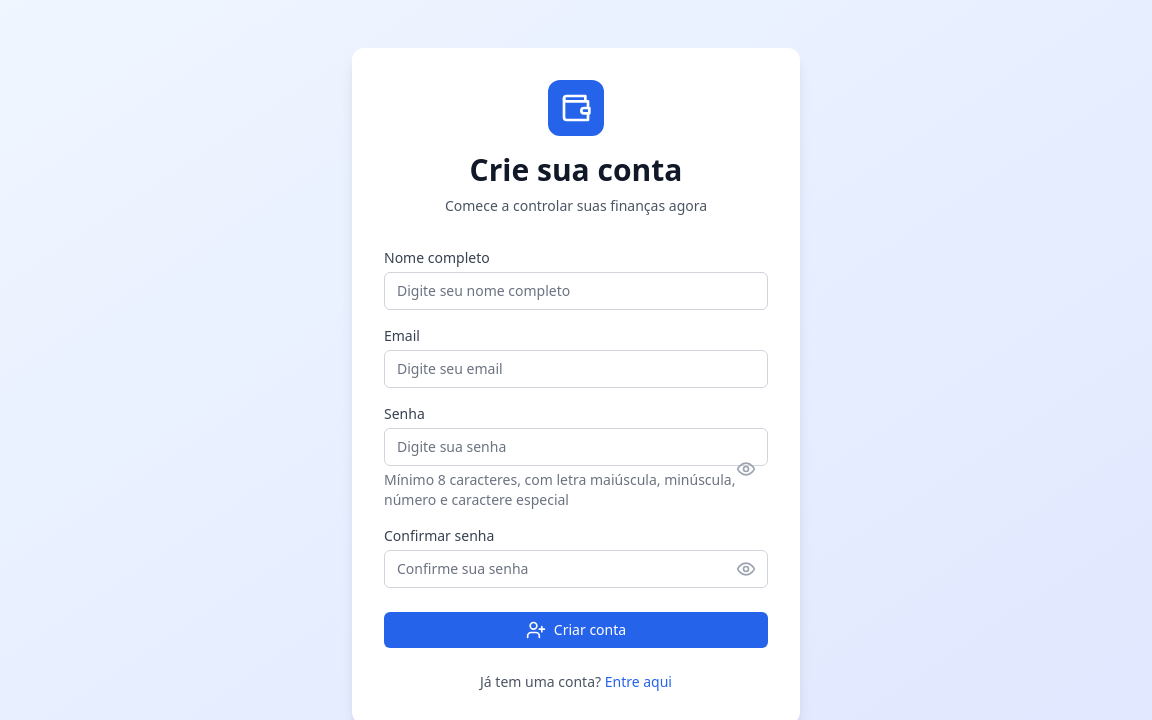
Test: RegisterPage › validates name minimum length
Type "Jo" into the field labelled "Nome completo" at x=576, y=291, box [384, 272, 768, 310]
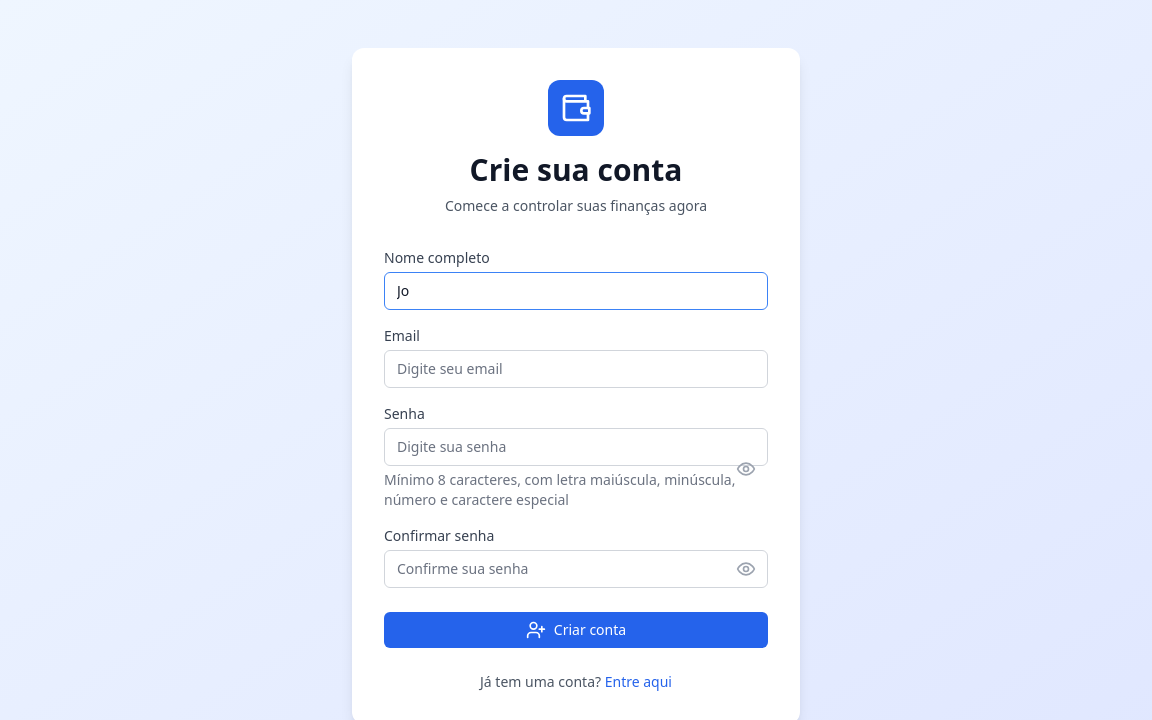
Type "test@example.com" into the field labelled "Email" at x=576, y=369, box [384, 350, 768, 388]
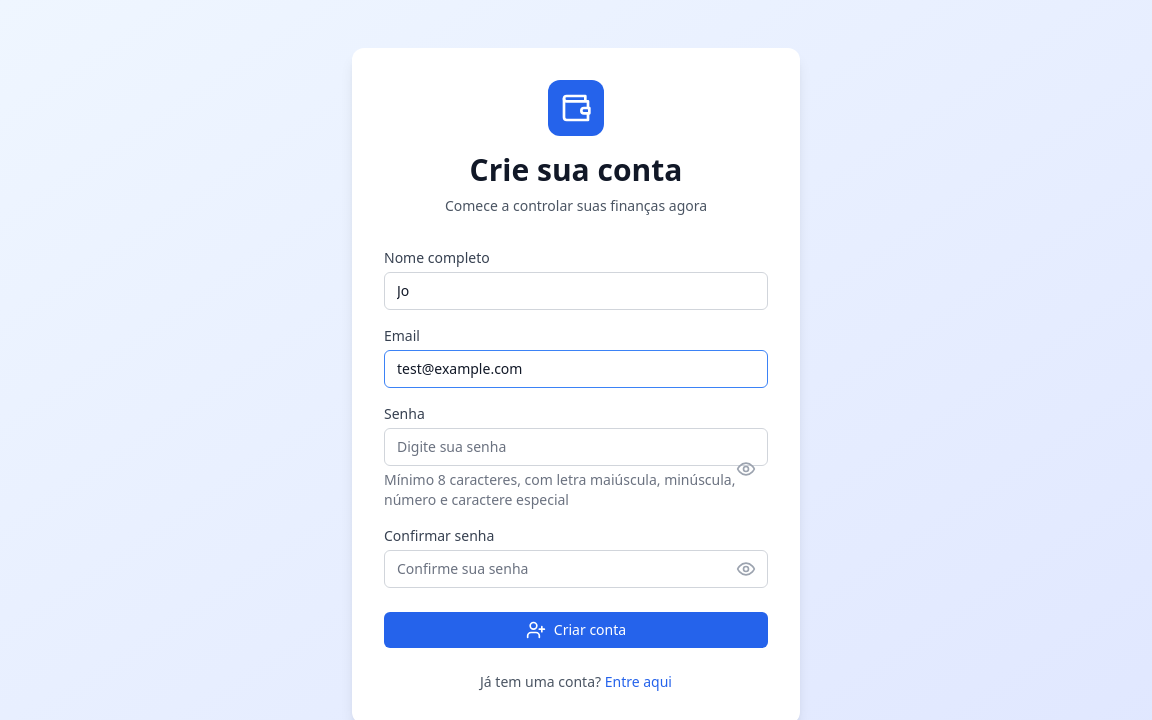
Type "Password123!" into the password field labelled "Senha" at x=576, y=447, box [384, 428, 768, 466]
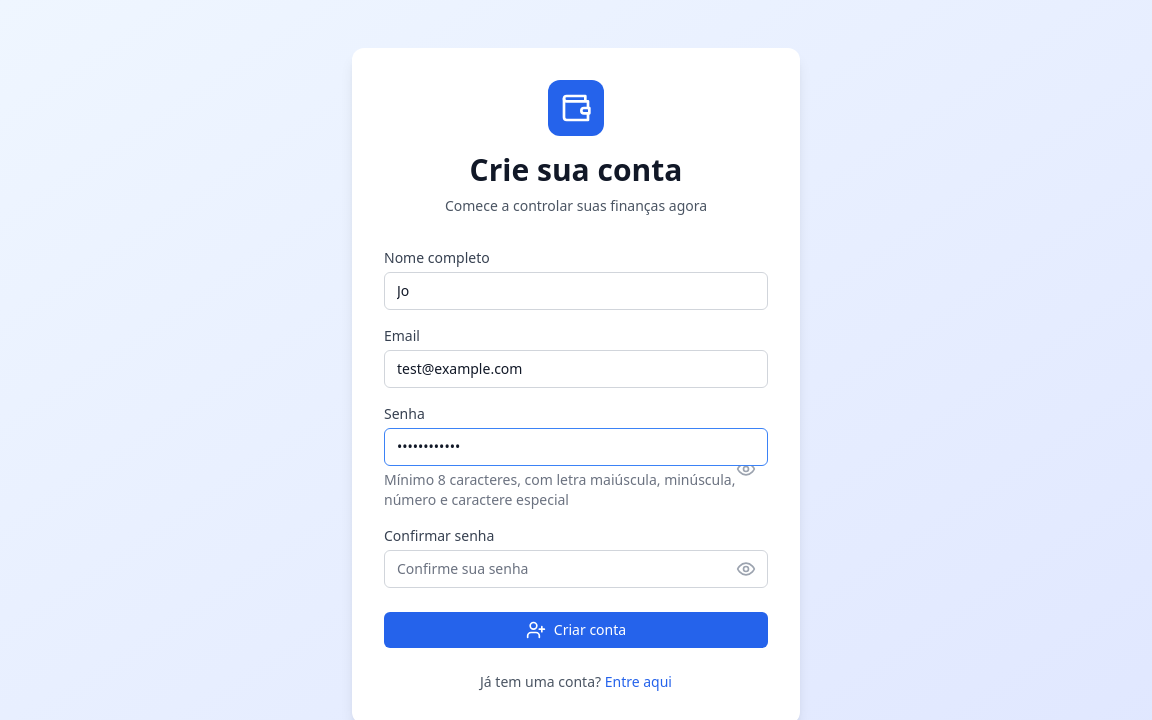
Type "Password123!" into the password field labelled "Confirmar senha" at x=576, y=569, box [384, 550, 768, 588]
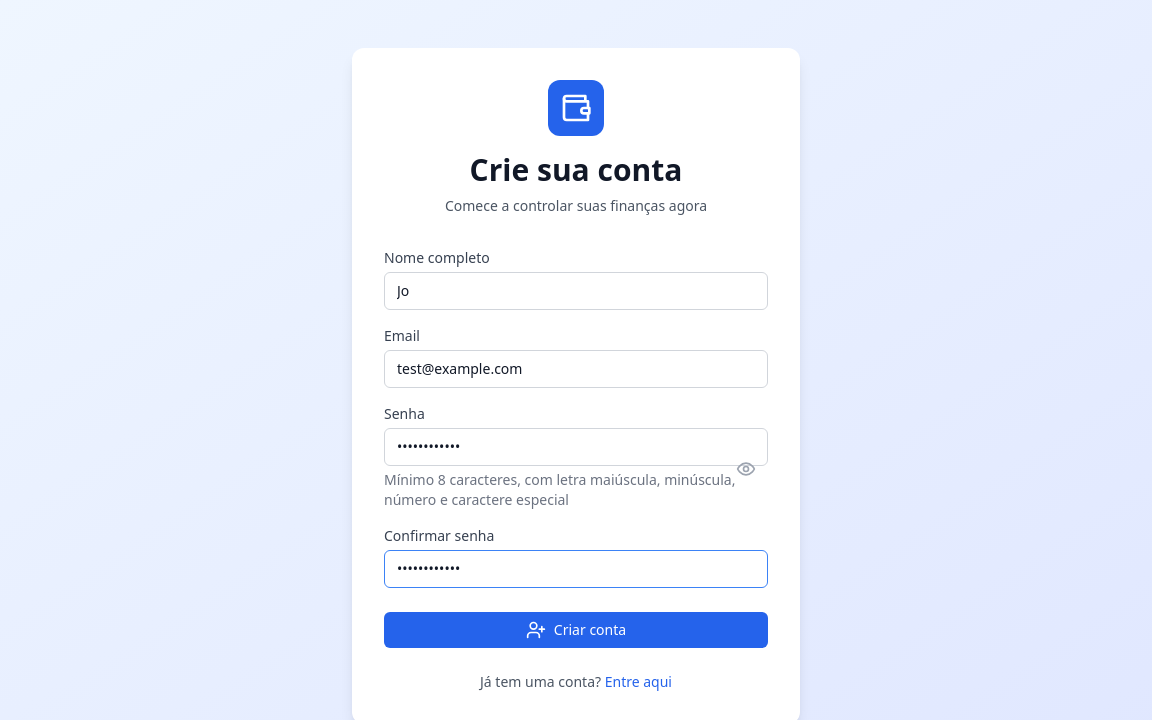
Click the button "Criar conta" at x=576, y=630, box [384, 612, 768, 648]
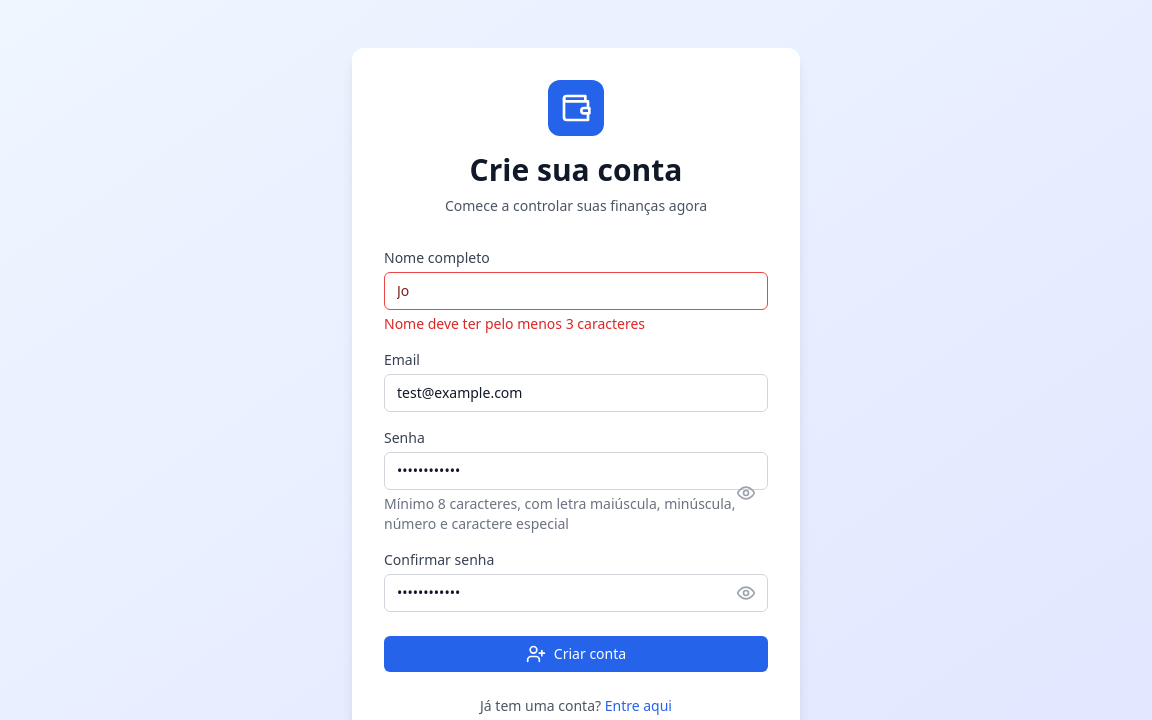
Expected: the text "Nome deve ter pelo menos 3 caracteres" is shown, [384, 314, 645, 333]
